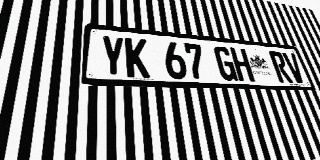6: (163, 41, 188, 79)
7: (182, 43, 208, 80)
G: (213, 46, 238, 81)
H: (229, 47, 255, 82)
K: (125, 37, 150, 78)
R: (268, 51, 293, 83)
V: (282, 52, 307, 83)
Y: (100, 35, 126, 77)
